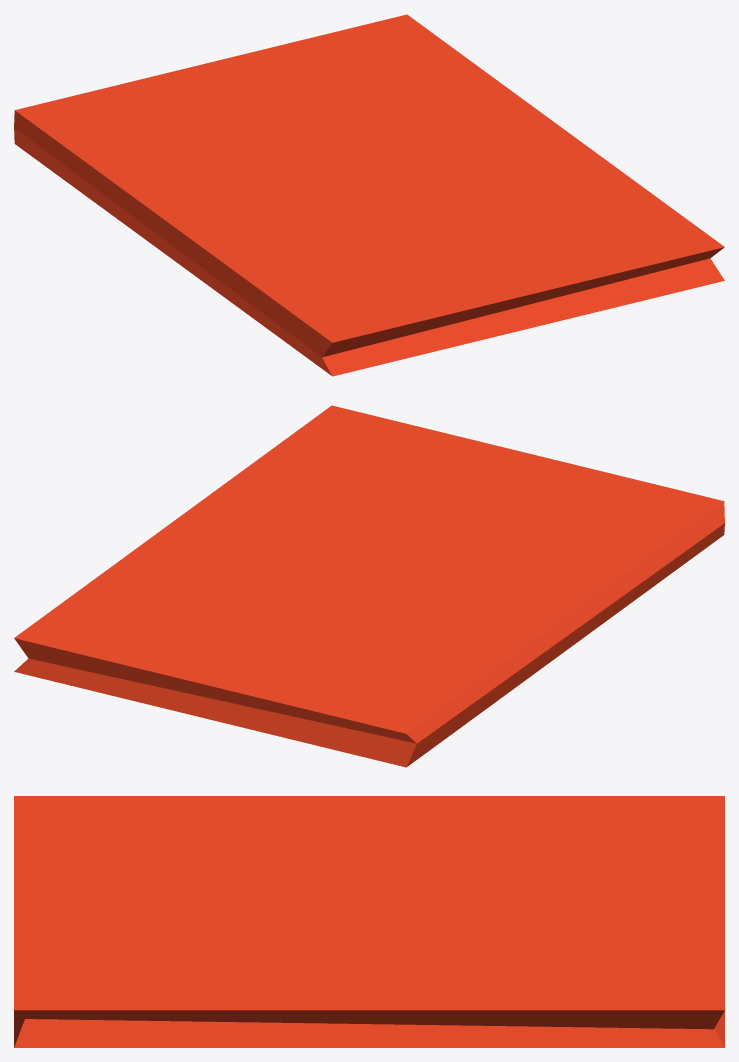
Rendered from SM_Newspaper_Lime_City.fbx.
3 views of the same model, one above another, from view 1: azimuth 30°, elevation 25°; view 2: azimuth 150°, elevation 25°; view 3: azimuth 270°, elevation 25° (orthographic). The views are drawn at different scales.
Visible parts, largest first — view 1: SM_Newspaper_Lime_City; view 2: SM_Newspaper_Lime_City; view 3: SM_Newspaper_Lime_City.
Boxes of the visible parts, bbox=[...] form: SM_Newspaper_Lime_City: bbox=[14, 14, 724, 376]; SM_Newspaper_Lime_City: bbox=[14, 405, 724, 767]; SM_Newspaper_Lime_City: bbox=[14, 796, 724, 1047].
Size of the model in its own units: 0.2784 by 0.0225 by 0.385.
